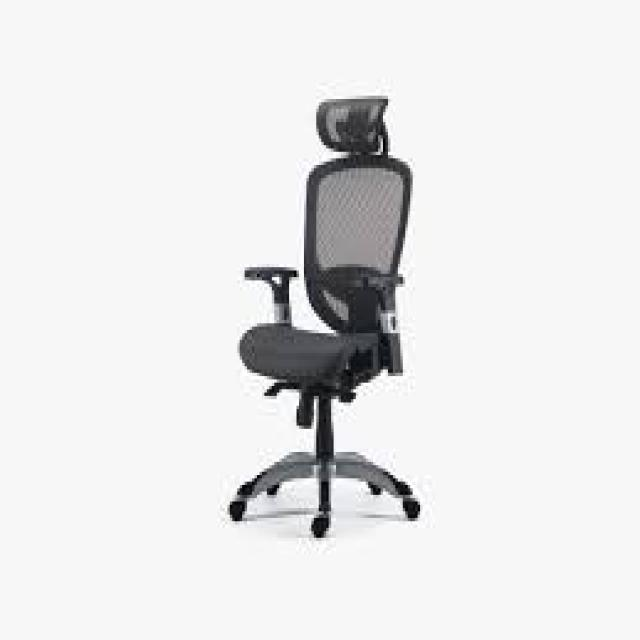chair: (156, 75, 475, 614)
